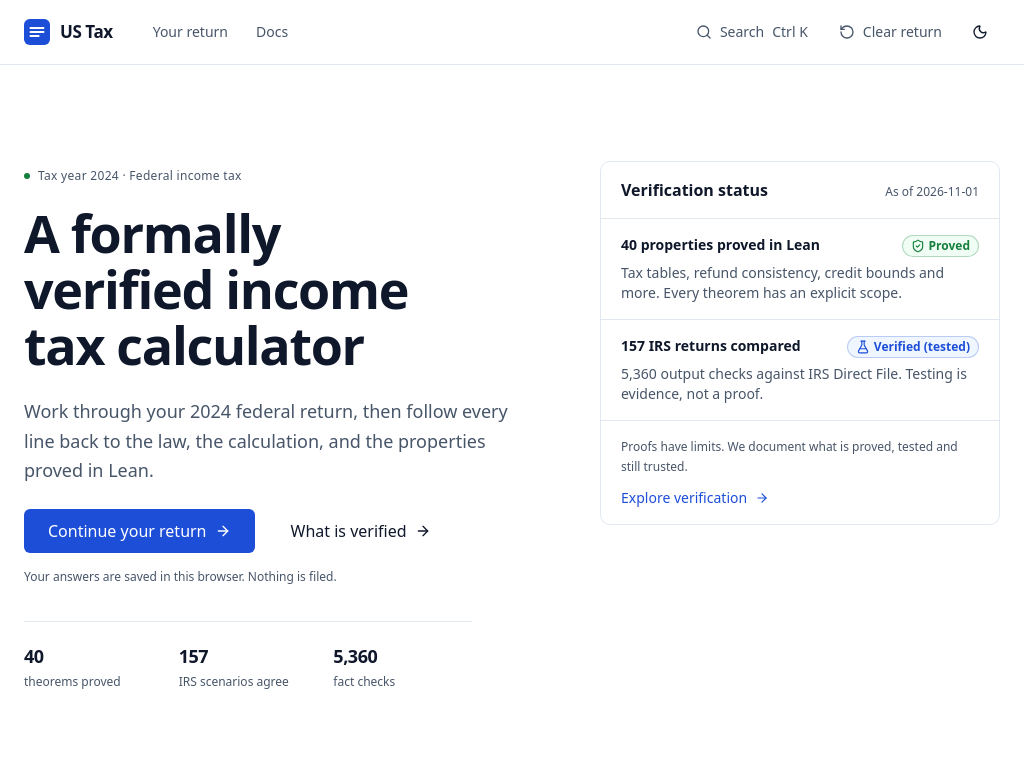
minimal navigation and clear return › clears persisted answers only after confirmation and starts an empty return
Click the button "Clear return" at (890, 32), box [827,16,954,48]
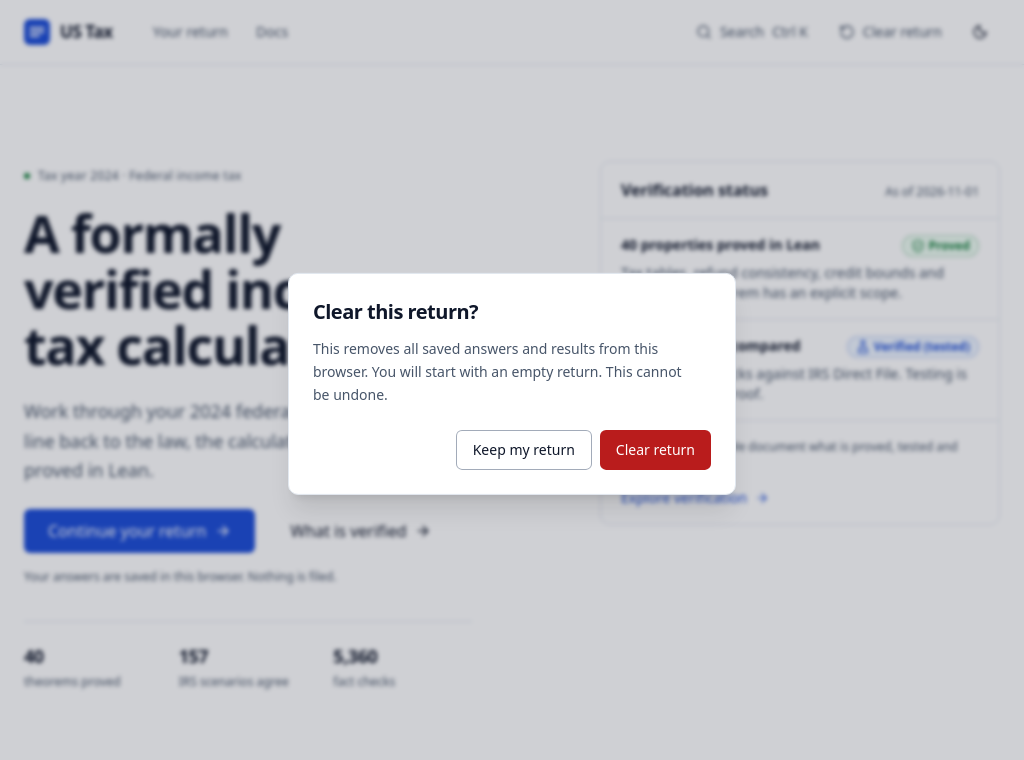
Click the button "Clear return" at (655, 450), box [600,430,711,470]
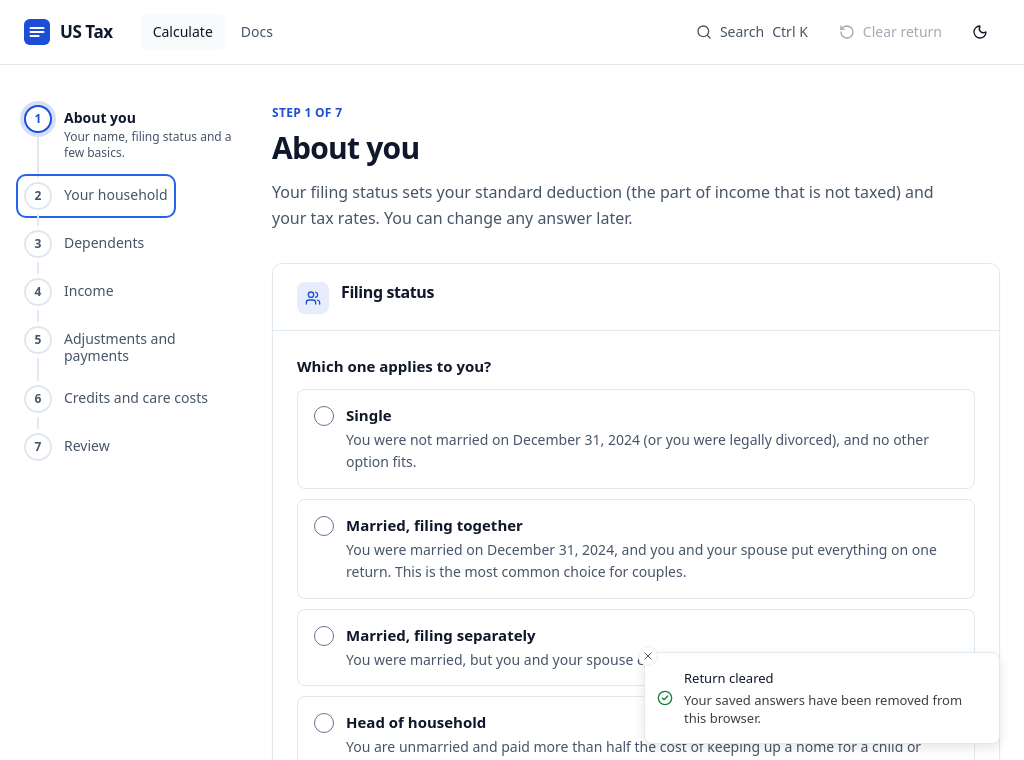
expect the heading "About you" is shown: met, box [272,127,419,168]
expect the dialog is gone: met
expect the button "Clear return" is disabled: met, box [827,16,954,48]
